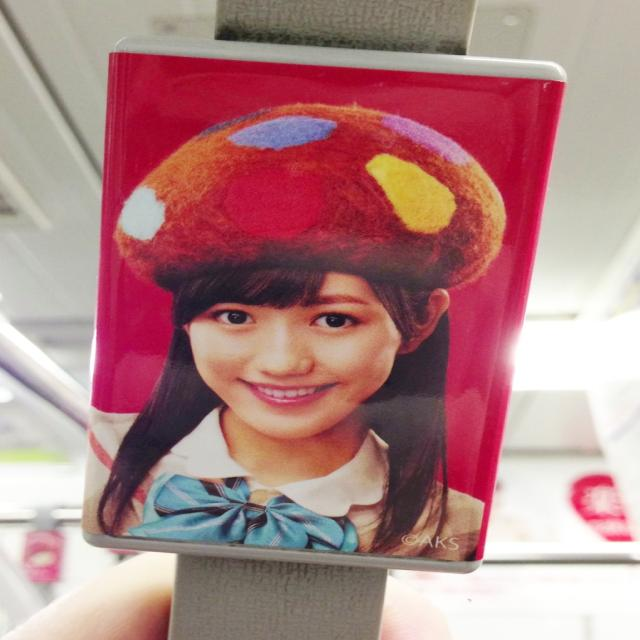Hat: (115, 101, 506, 290)
